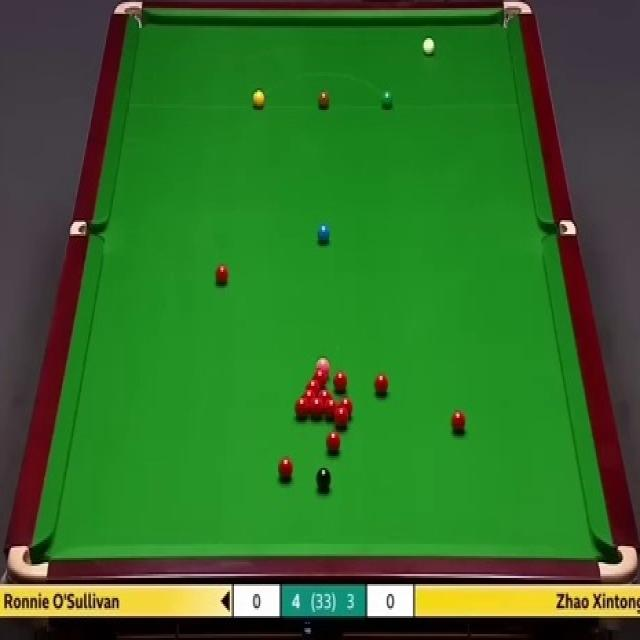pocket: (6, 543, 49, 585), (594, 543, 637, 582), (501, 0, 530, 32), (113, 0, 143, 28), (67, 220, 105, 237), (540, 220, 574, 235)
